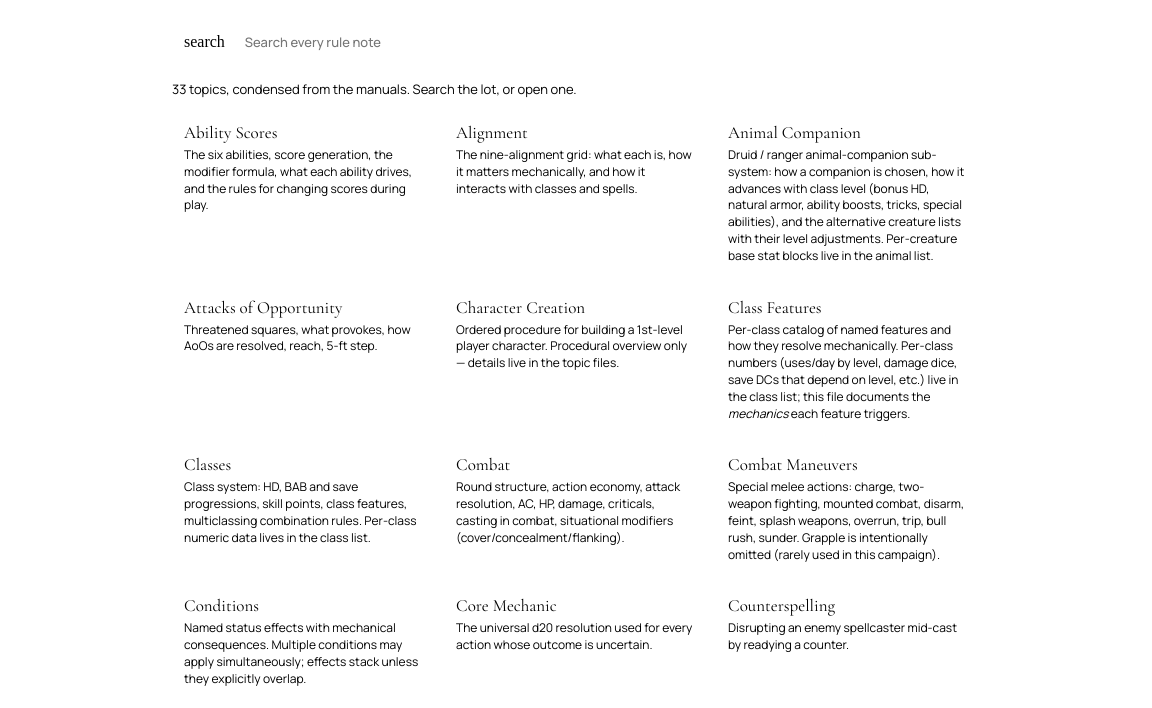
search › clearing the box returns to the topic list, without waiting
The image size is (1152, 708).
In the search field: x=600, y=42 [233,24,968,60], type "counterspell"
Wait 250 ms
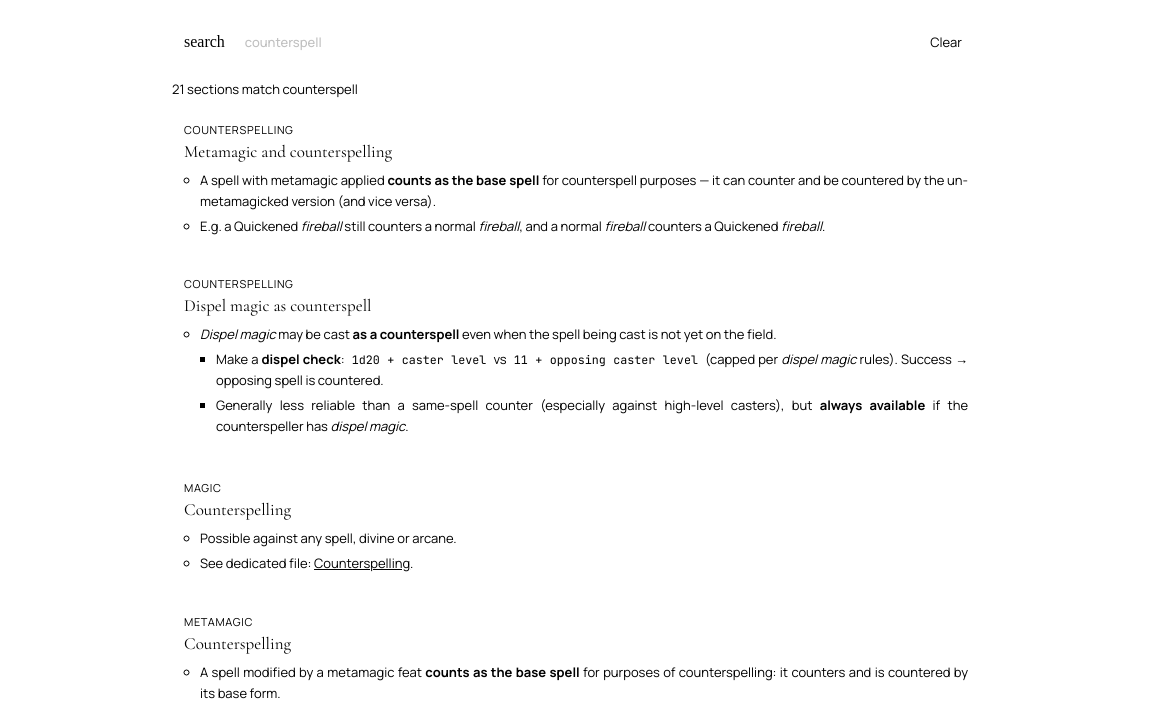
Click the button "Clear": x=946, y=42 [924,32,968,52]
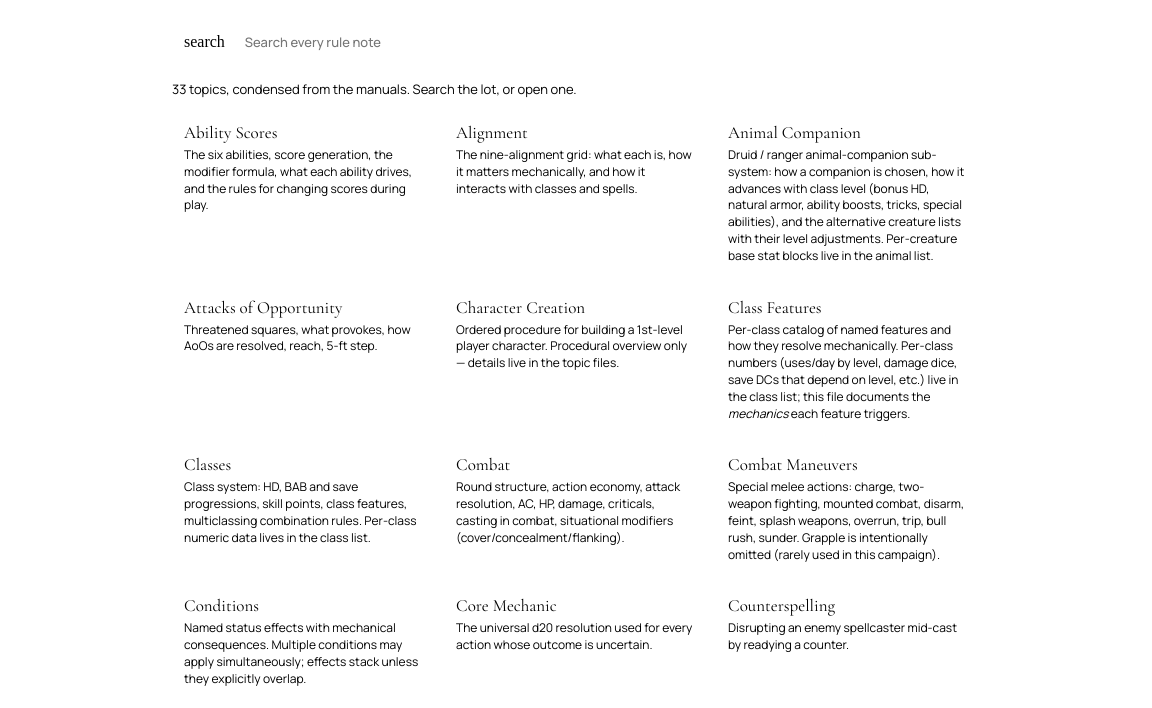
expect the text "33 topics, condensed" is shown: met, box [172,80,577,98]
